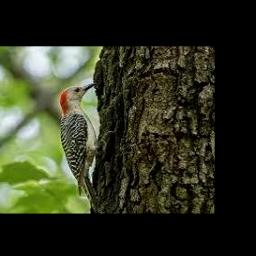Woodpecker: (60, 82, 116, 208)
